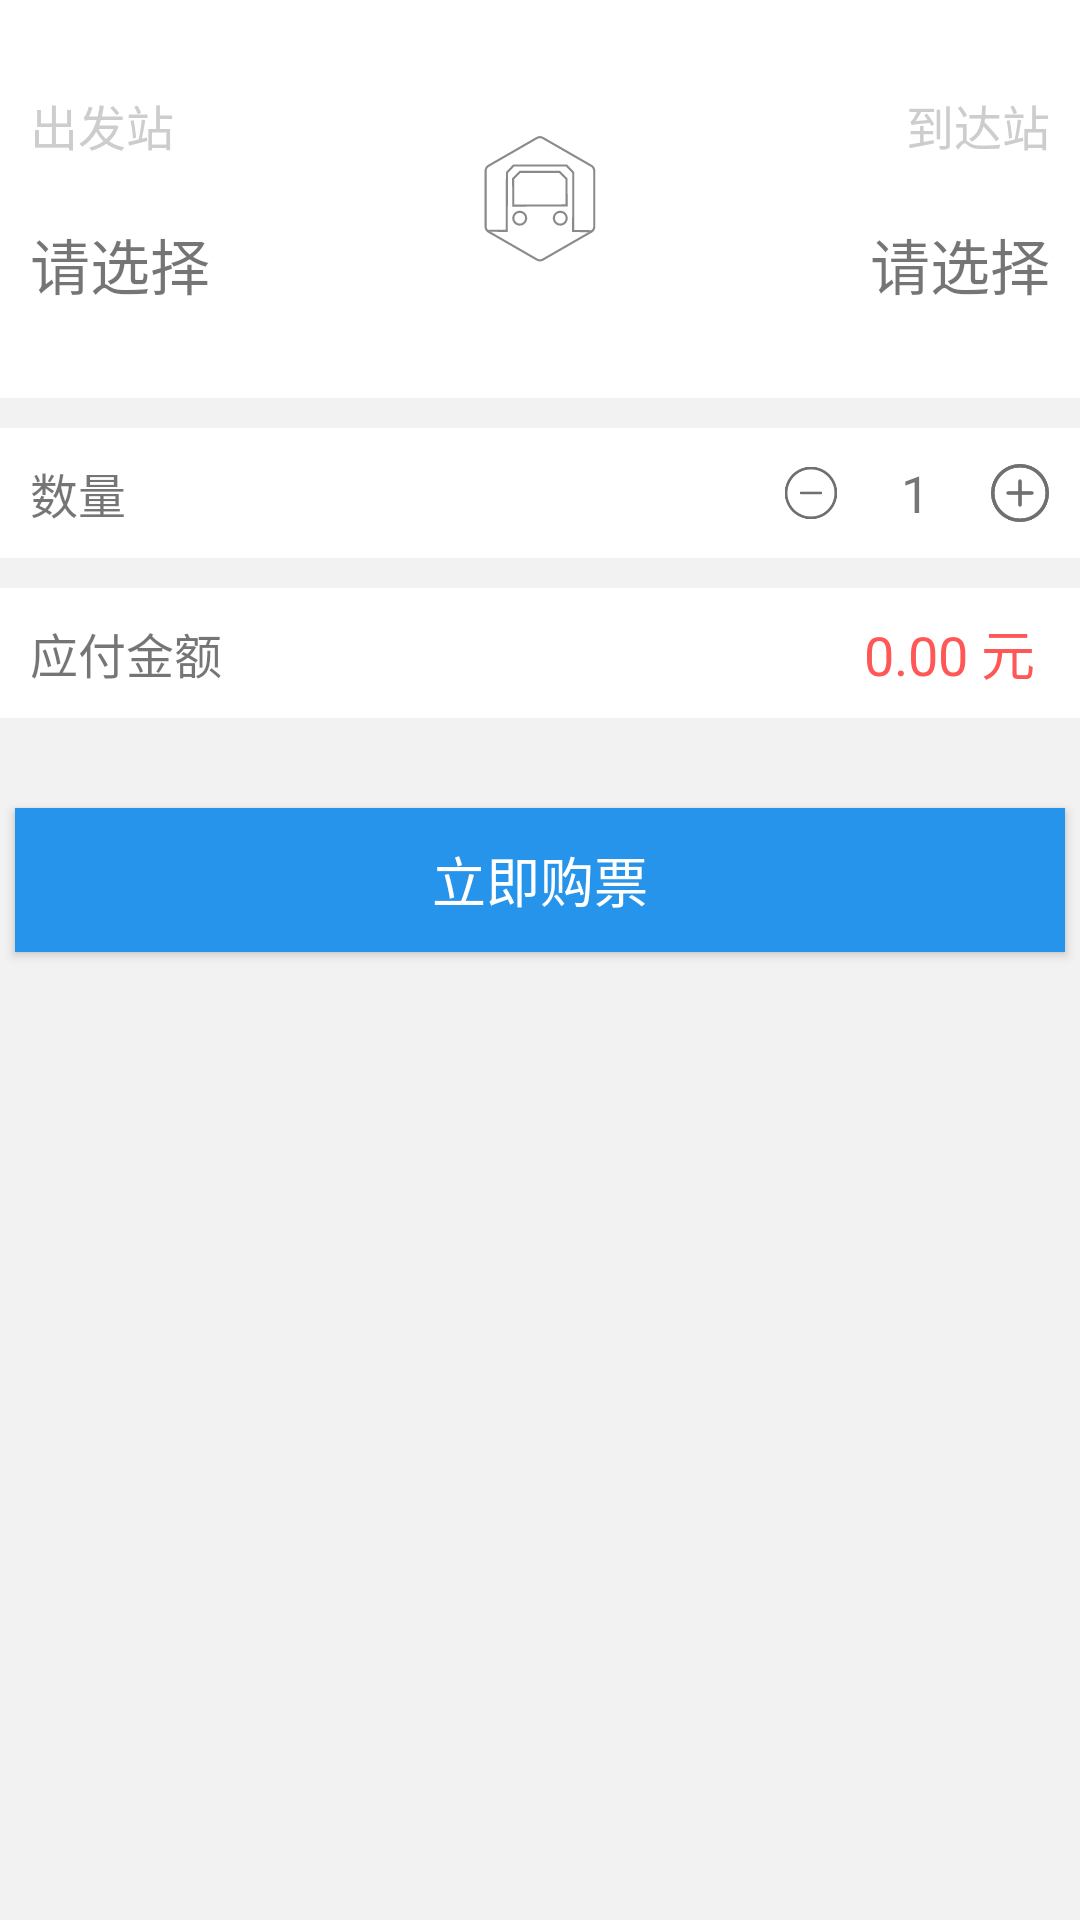

Icons on this 1080 × 1920 Android screen, each with its box as (x1, y1, x2, y2):
subway middle: (484, 136, 596, 262)
ticket num add: (991, 464, 1049, 522)
ticket num cut: (785, 467, 837, 519)
